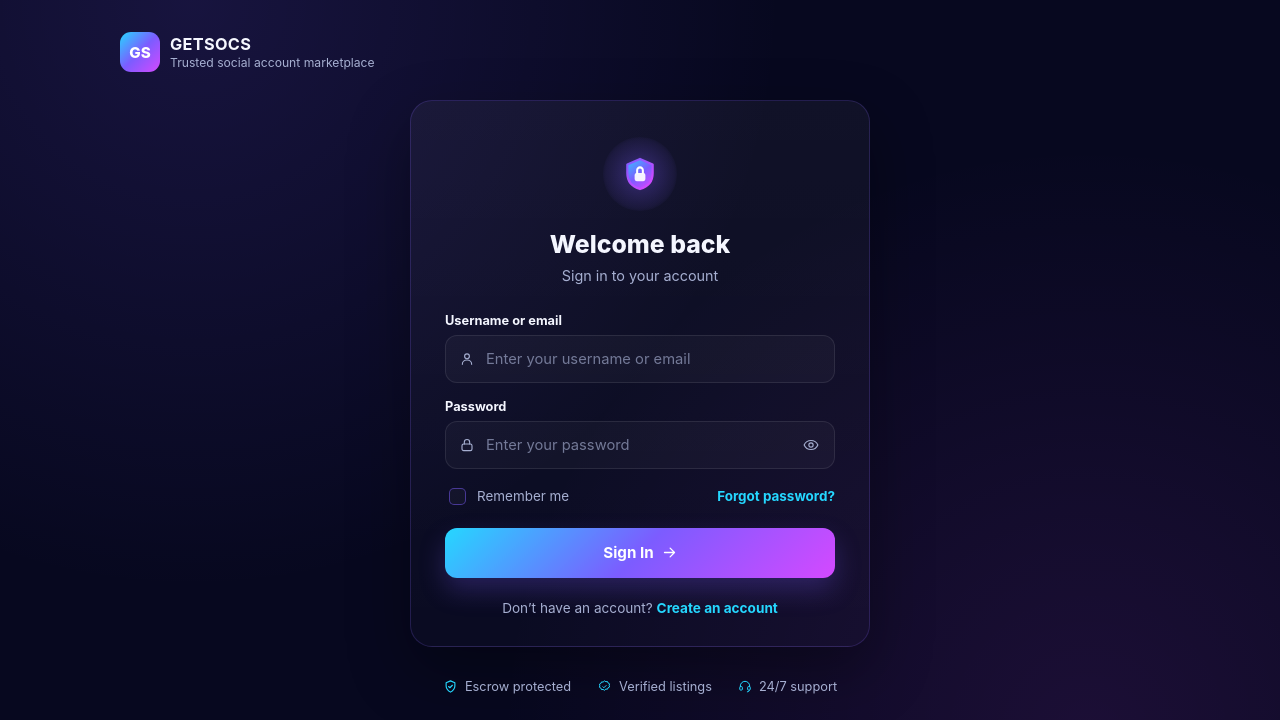
Test case: Login › moves to the 2FA step when the backend requires it
Step 1. Type "alice" into the field with placeholder "Enter your username or email" → (640, 359), box [445, 335, 835, 383]
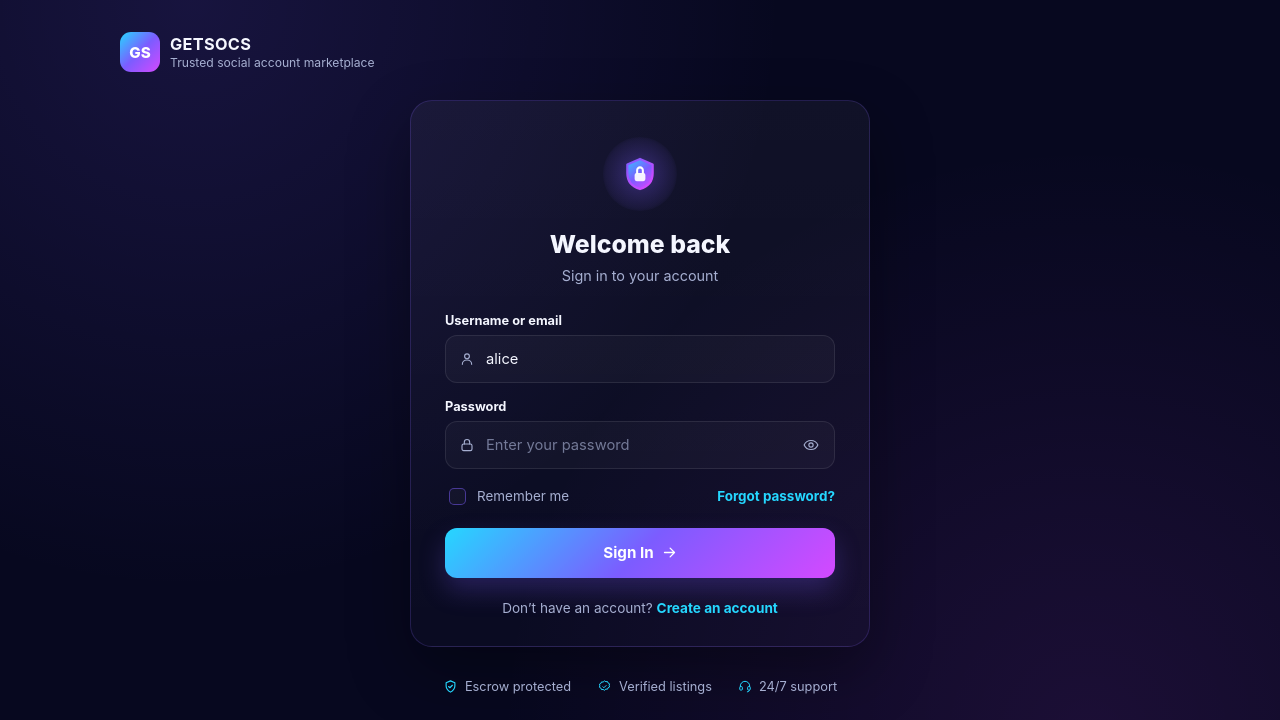
Step 2. Type "Correct123!" into the password field with placeholder "Enter your password" → (640, 445), box [445, 421, 835, 469]
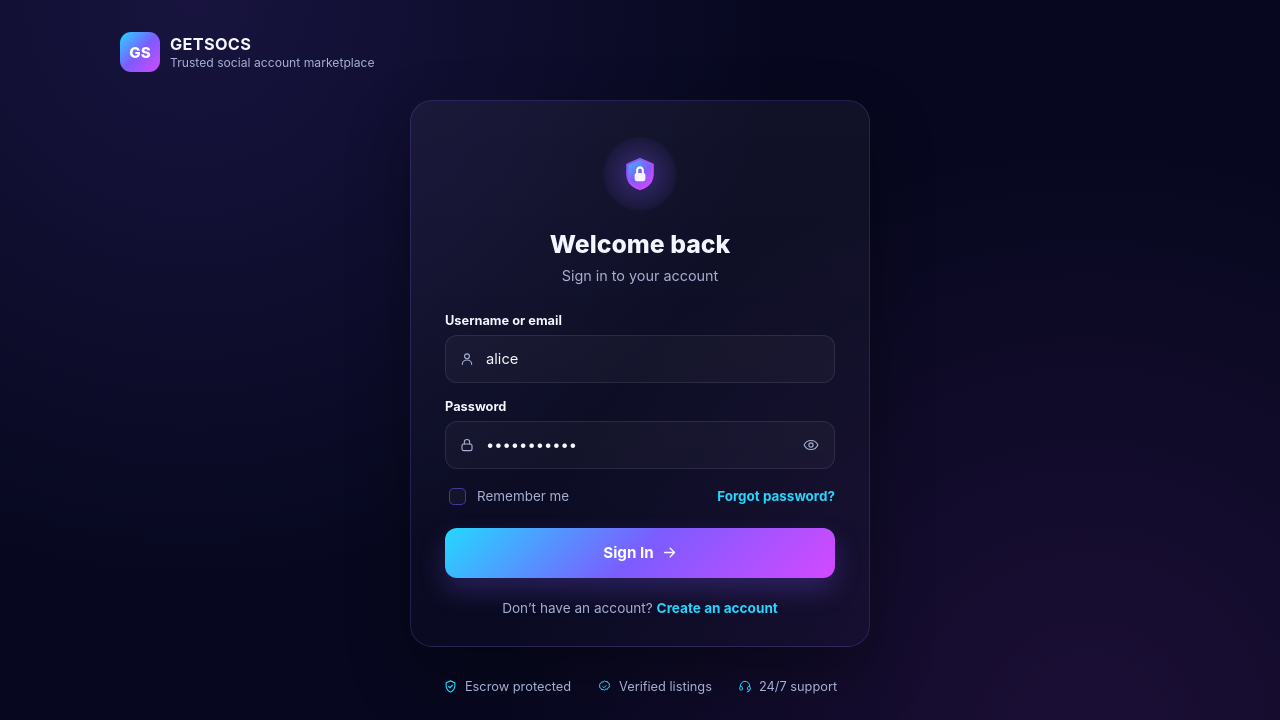
Step 3. Click the button "Sign In" → (640, 553), box [445, 528, 835, 578]
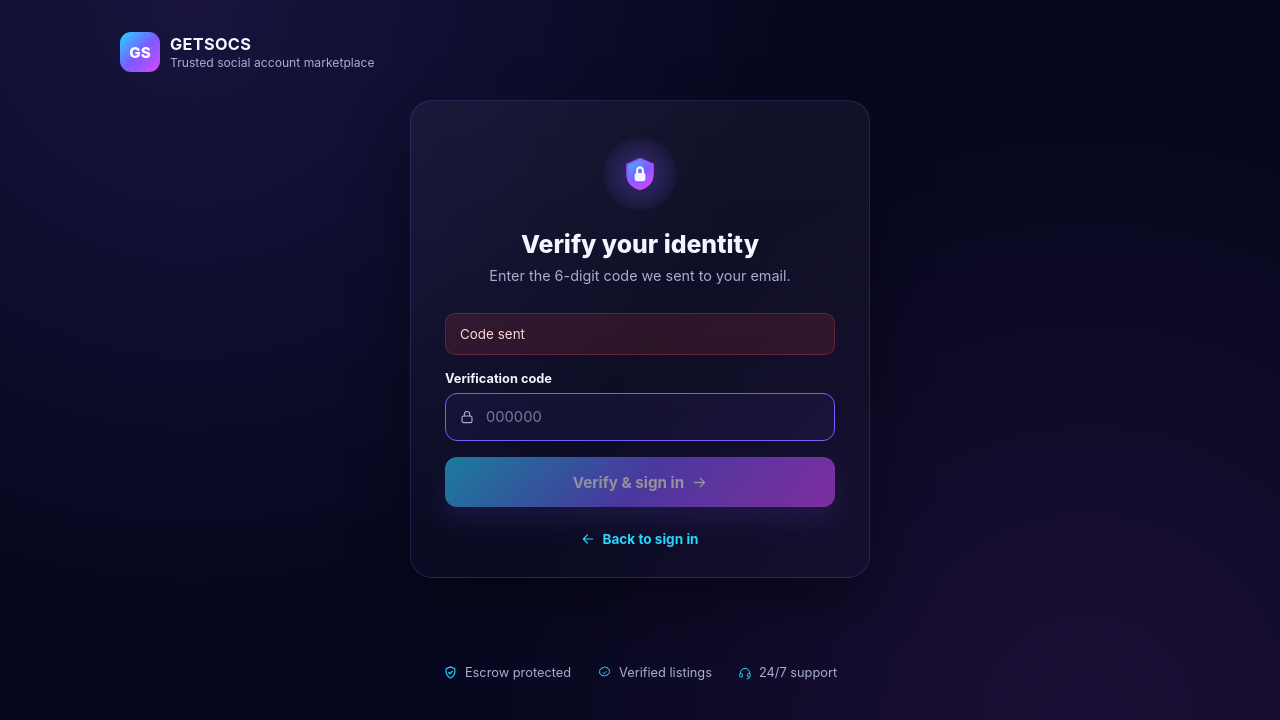
Result: the heading "Verify your identity" is shown at [521, 229, 759, 259]
Result: the text "Code sent" is shown at [445, 313, 835, 355]
Result: the field with placeholder "000000" is shown at [445, 393, 835, 441]
